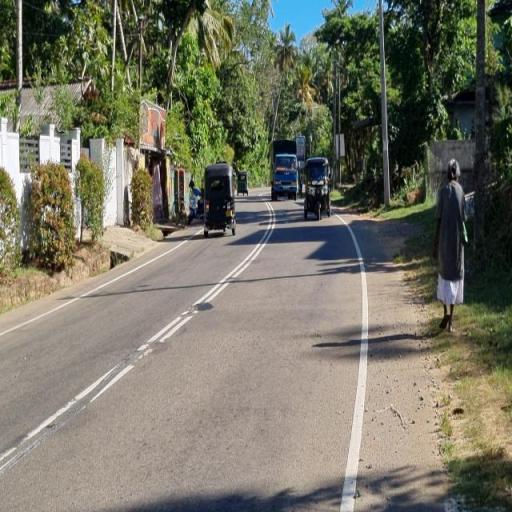double_white_line: (138, 202, 272, 360)
